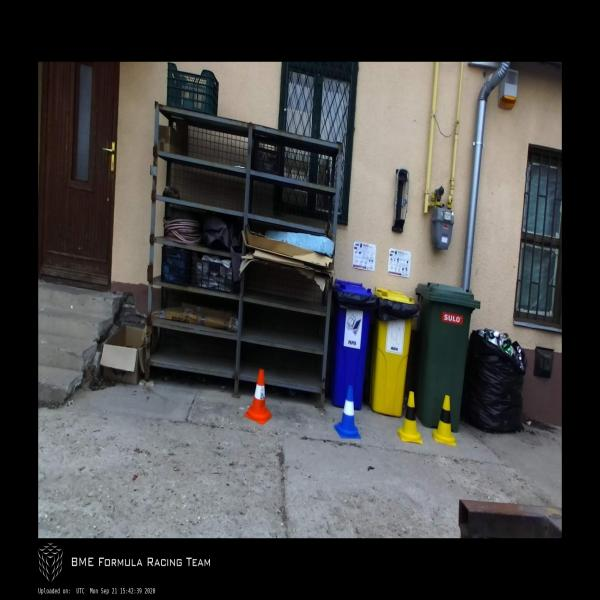blue_cone: (333, 386, 361, 438)
orange_cone: (244, 370, 272, 424)
yellow_cone: (397, 392, 423, 444), (432, 396, 456, 446)
